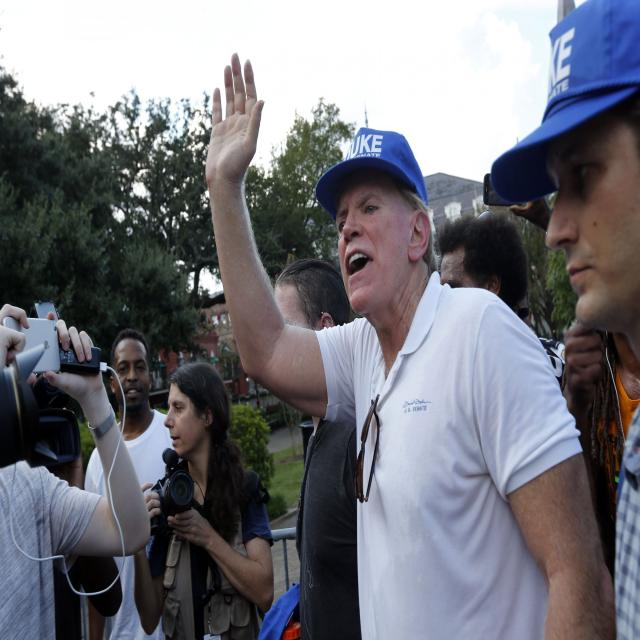body: (204, 48, 618, 640), (477, 0, 640, 640), (377, 194, 569, 638), (0, 298, 154, 640), (132, 359, 274, 640), (271, 256, 360, 640), (83, 327, 186, 640), (558, 310, 640, 561), (511, 178, 559, 234)
